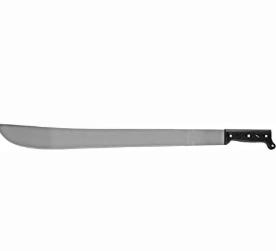MACHETTE: (1, 118, 276, 161)
